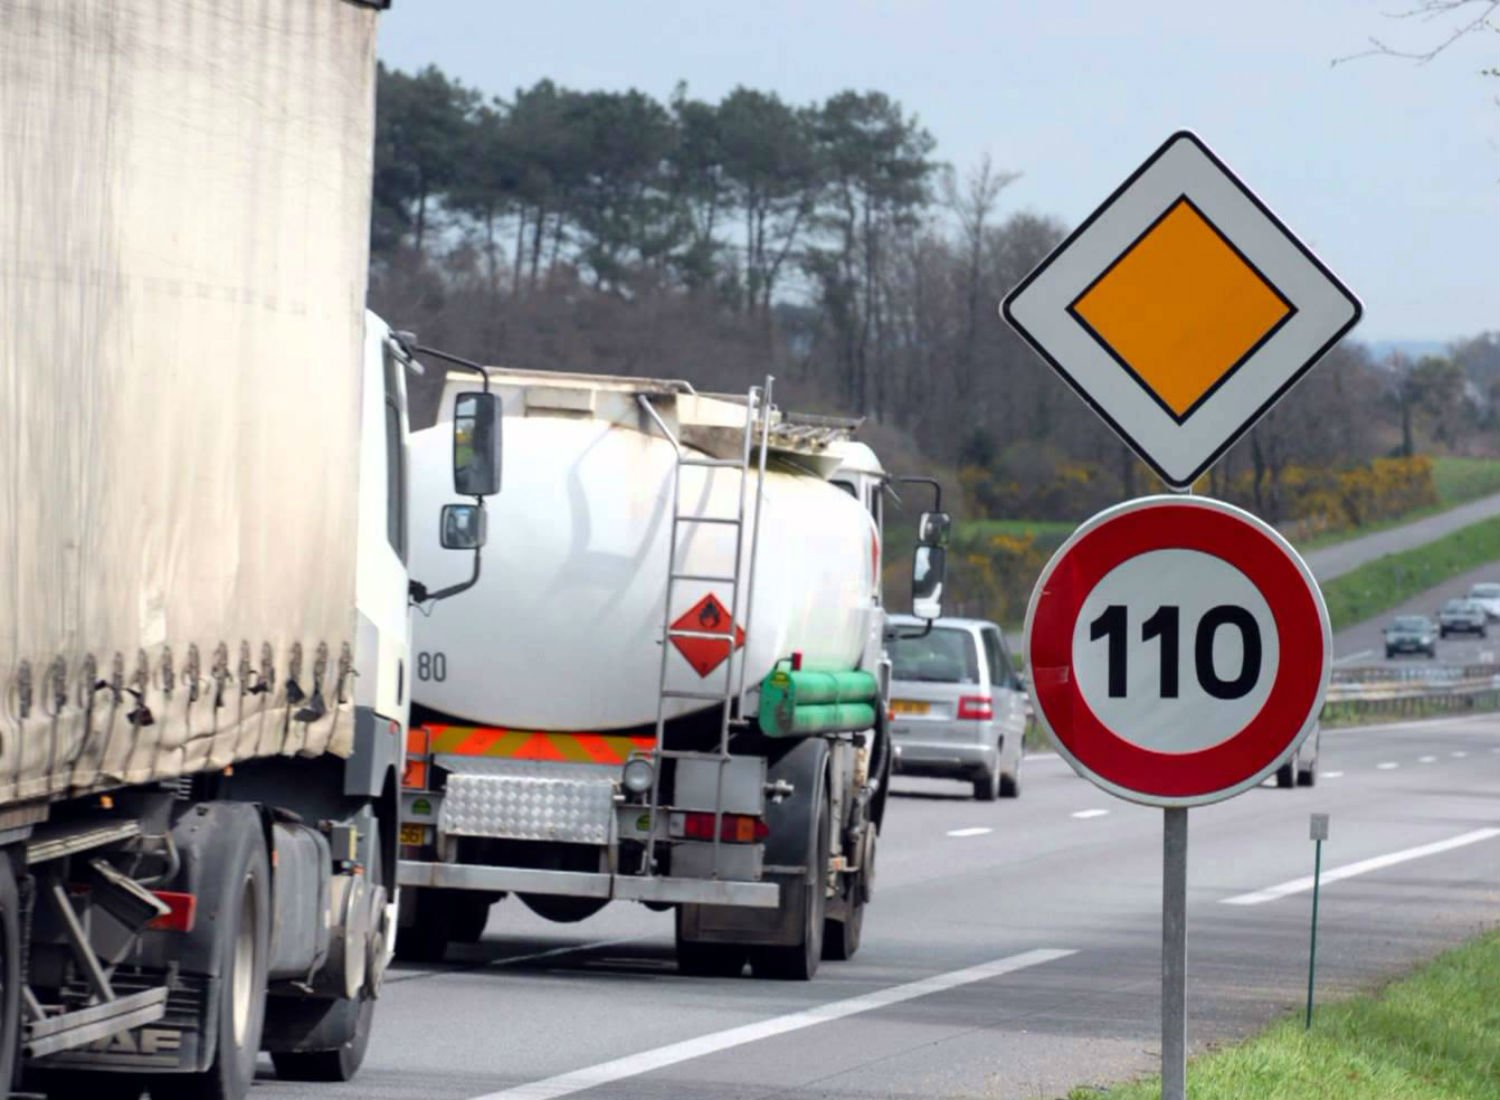Cartel: (998, 126, 1365, 488), (1013, 491, 1333, 811)
Poste: (1155, 795, 1193, 1100)
Vehiculo: (2, 1, 406, 1093), (399, 368, 924, 985)
